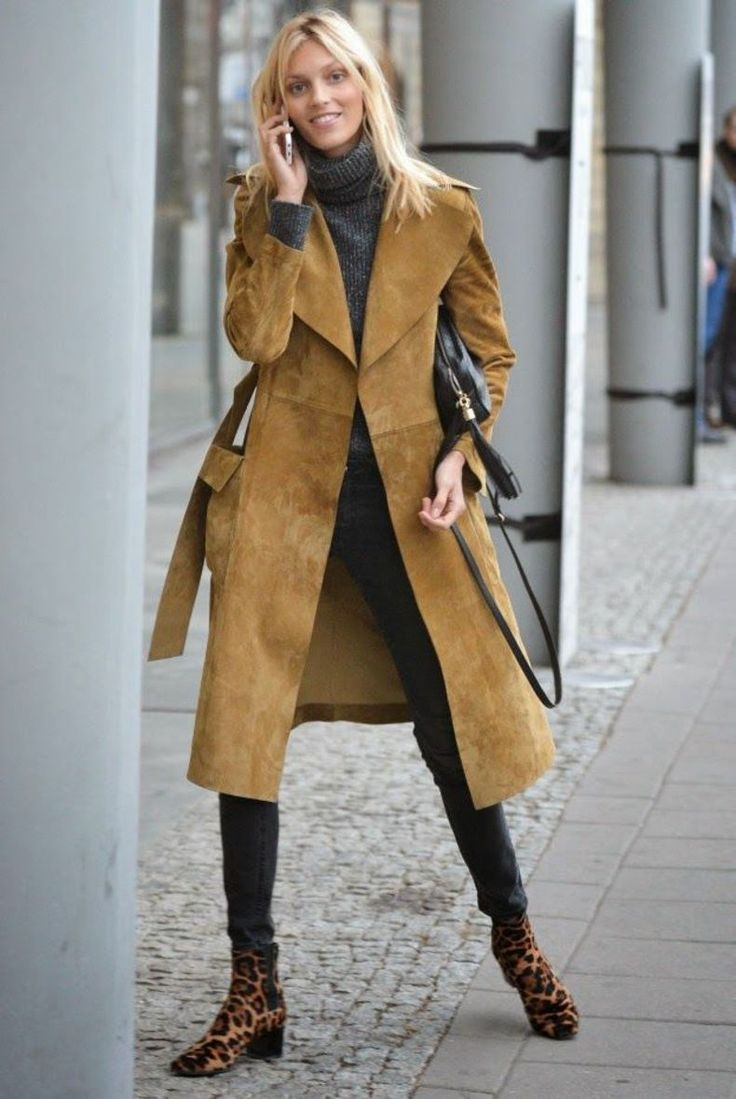gamuza: (148, 163, 558, 807)
